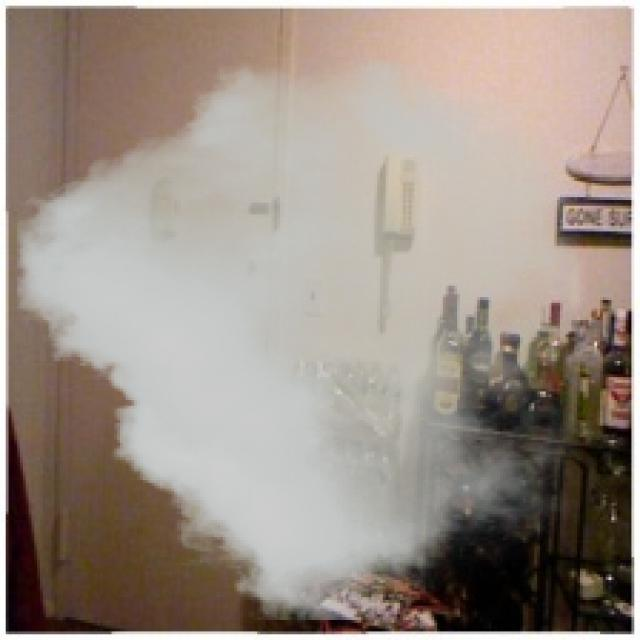smoke: (17, 57, 580, 620)
